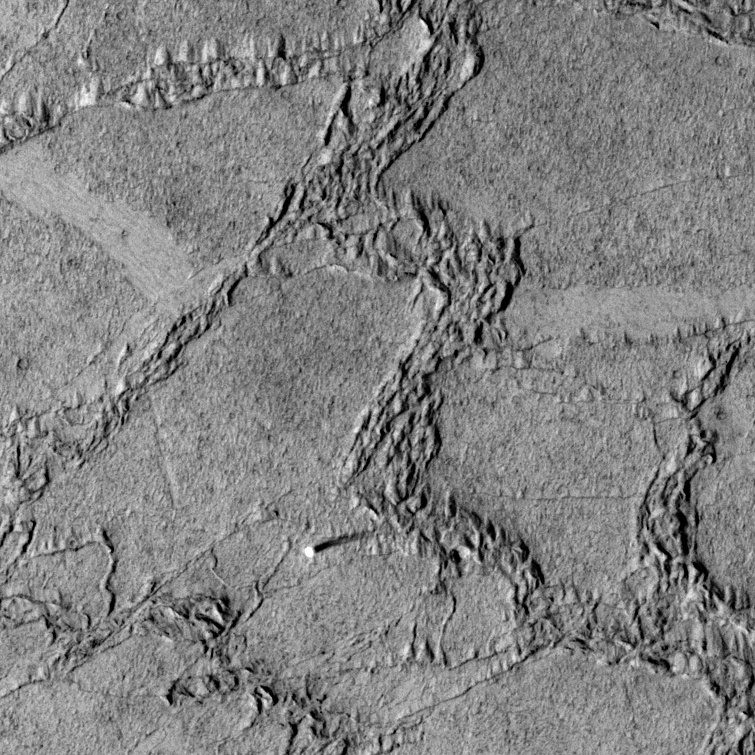dust_devil: (302, 529, 368, 558)
